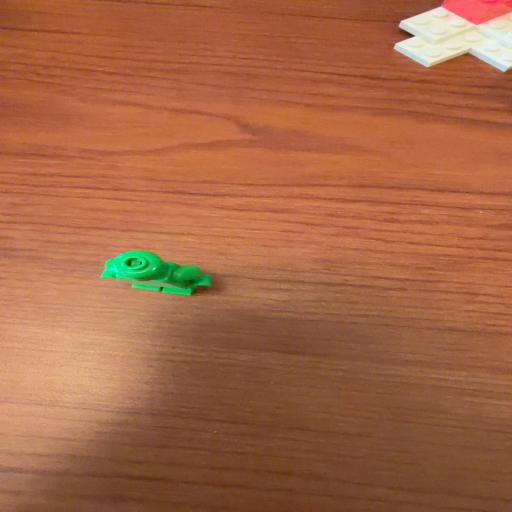UnoQ-minifig-detector: (100, 248, 225, 297)
